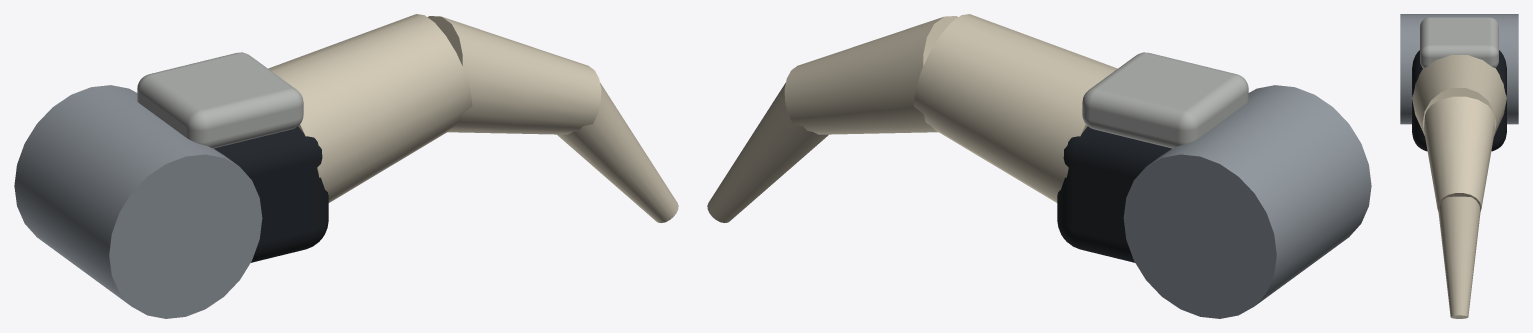
Rendered from left_toe_3_distal_link.glb.
3 views of the same model, side by side, from view 1: azimuth 30°, elevation 25°; view 2: azimuth 150°, elevation 25°; view 3: azimuth 270°, elevation 25° (orthographic). The views are drawn at different scales.
Parts seen in each view (by area): view 1: left_toe_3_distal_link; view 2: left_toe_3_distal_link; view 3: left_toe_3_distal_link.
Boxes of the visible parts, x1,y1,x2,y2 form: left_toe_3_distal_link: (14,14,678,318); left_toe_3_distal_link: (707,14,1371,318); left_toe_3_distal_link: (1400,14,1518,318).
Bounding box in the file's own units: 0.1123 × 0.0451 × 0.03.
